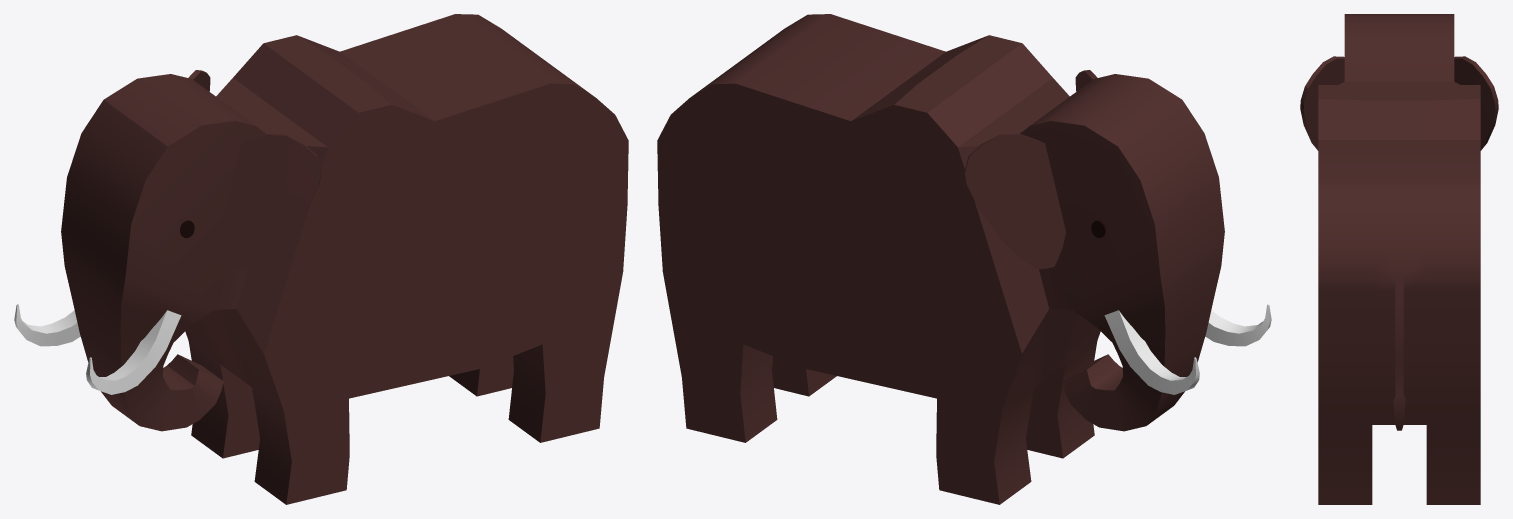
File: Mammoth.gltf
The picture shows the model from 3 angles, left to right: view 1: azimuth 30°, elevation 25°; view 2: azimuth 150°, elevation 25°; view 3: azimuth 270°, elevation 25°; orthographic projection. The views are drawn at different scales.
Parts seen in each view (by area): view 1: Plane.134, Plane.135, Cube.6239; view 2: Plane.134, Plane.135, Cube.6239; view 3: Plane.134, Plane.135.
Boxes of the visible parts, x1,y1,x2,y2 form: Plane.134: (61, 14, 628, 504); Plane.135: (188, 70, 321, 268); Cube.6239: (14, 304, 181, 394); Plane.134: (657, 14, 1224, 504); Plane.135: (964, 70, 1097, 268); Cube.6239: (1104, 304, 1271, 394); Plane.134: (1318, 14, 1480, 504); Plane.135: (1300, 56, 1498, 150).
Bounding box in the file's own units: 2.29 × 1.53 × 0.8386.
